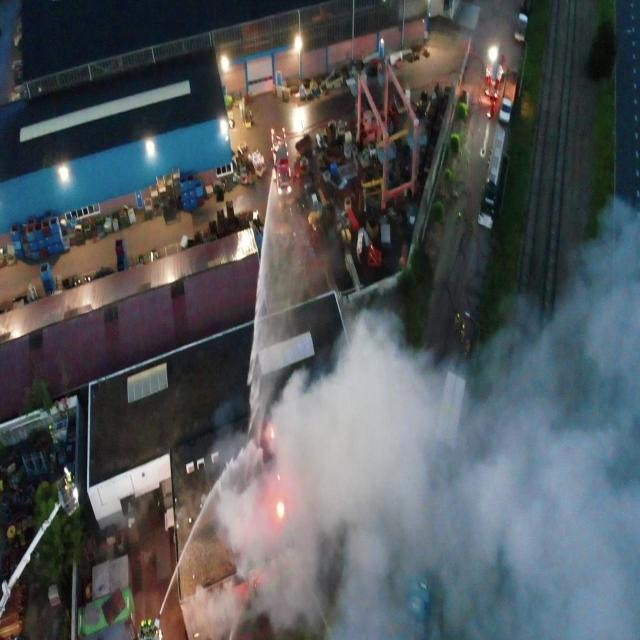Fire: (276, 502, 284, 517), (270, 427, 274, 439), (278, 473, 280, 481)
Smoke: (180, 194, 640, 640)
